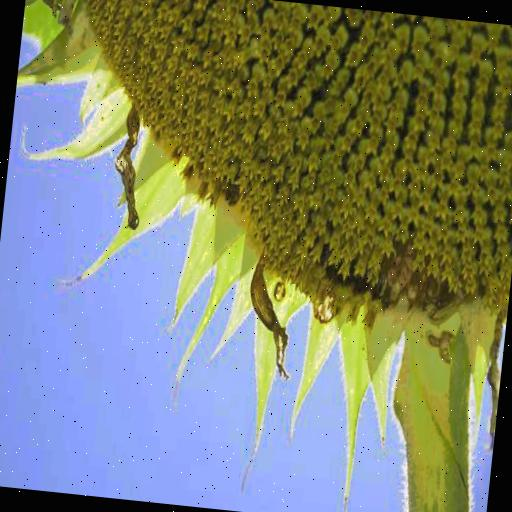sunflower: (0, 0, 512, 438)
